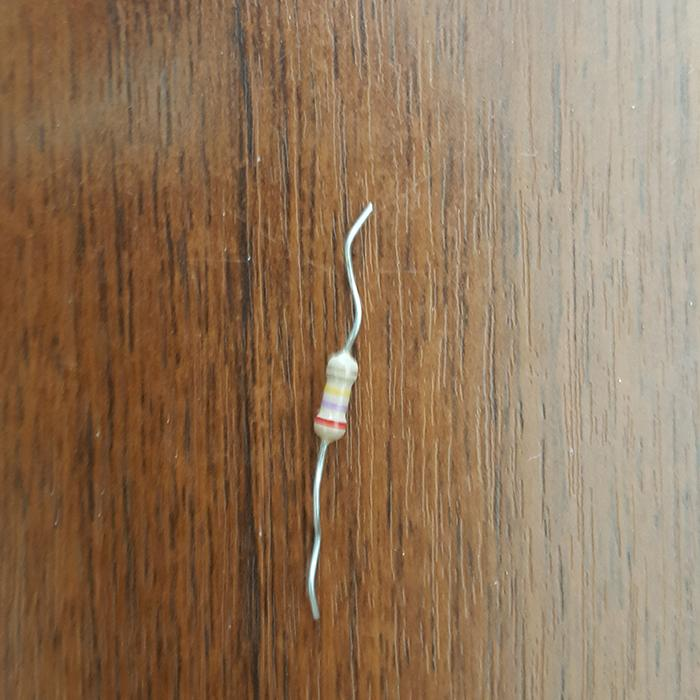resistor: (314, 352, 357, 442)
